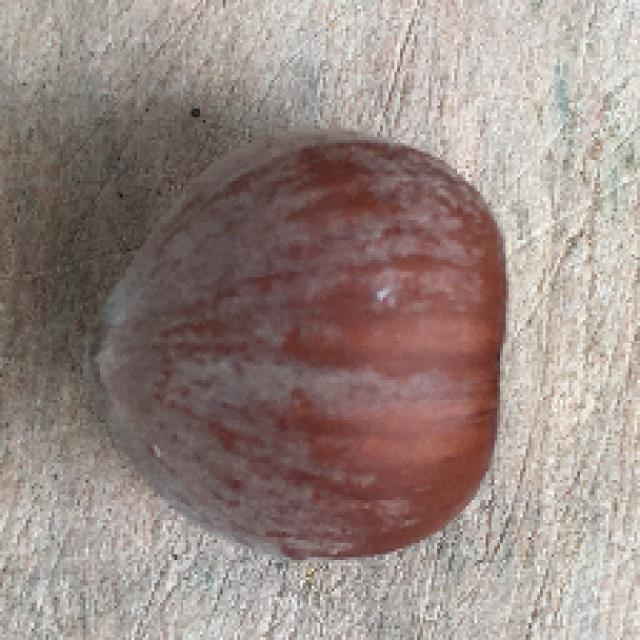qualityHazelnut: (83, 124, 507, 564)
